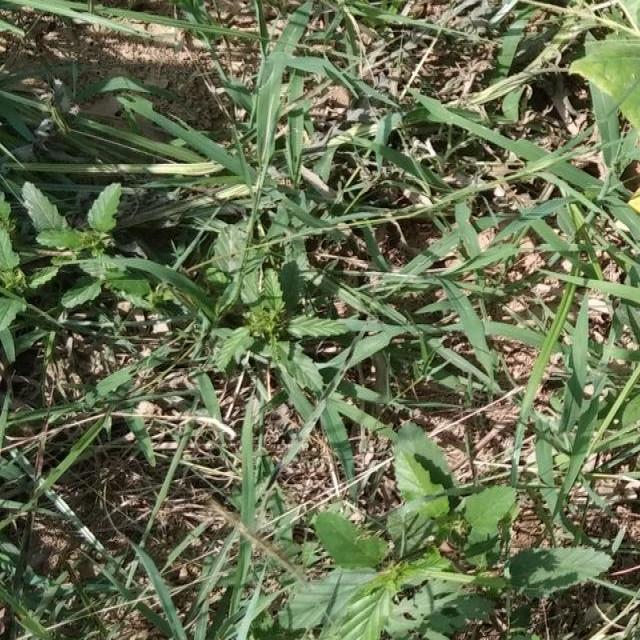weed: (480, 98, 640, 454), (302, 493, 604, 640), (106, 77, 414, 204), (209, 224, 364, 404), (0, 190, 130, 349)
